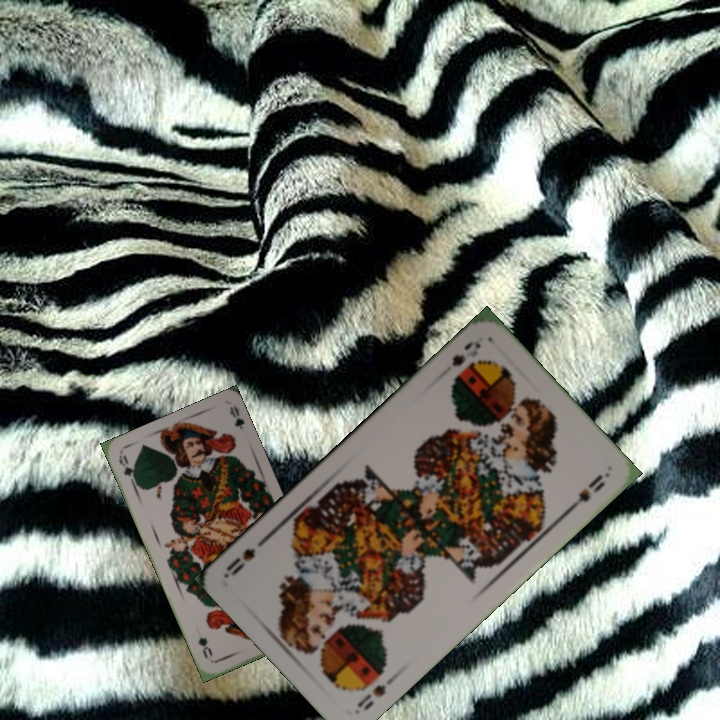GO: (115, 451, 142, 490)
SO: (352, 670, 400, 714), (448, 336, 484, 369)
